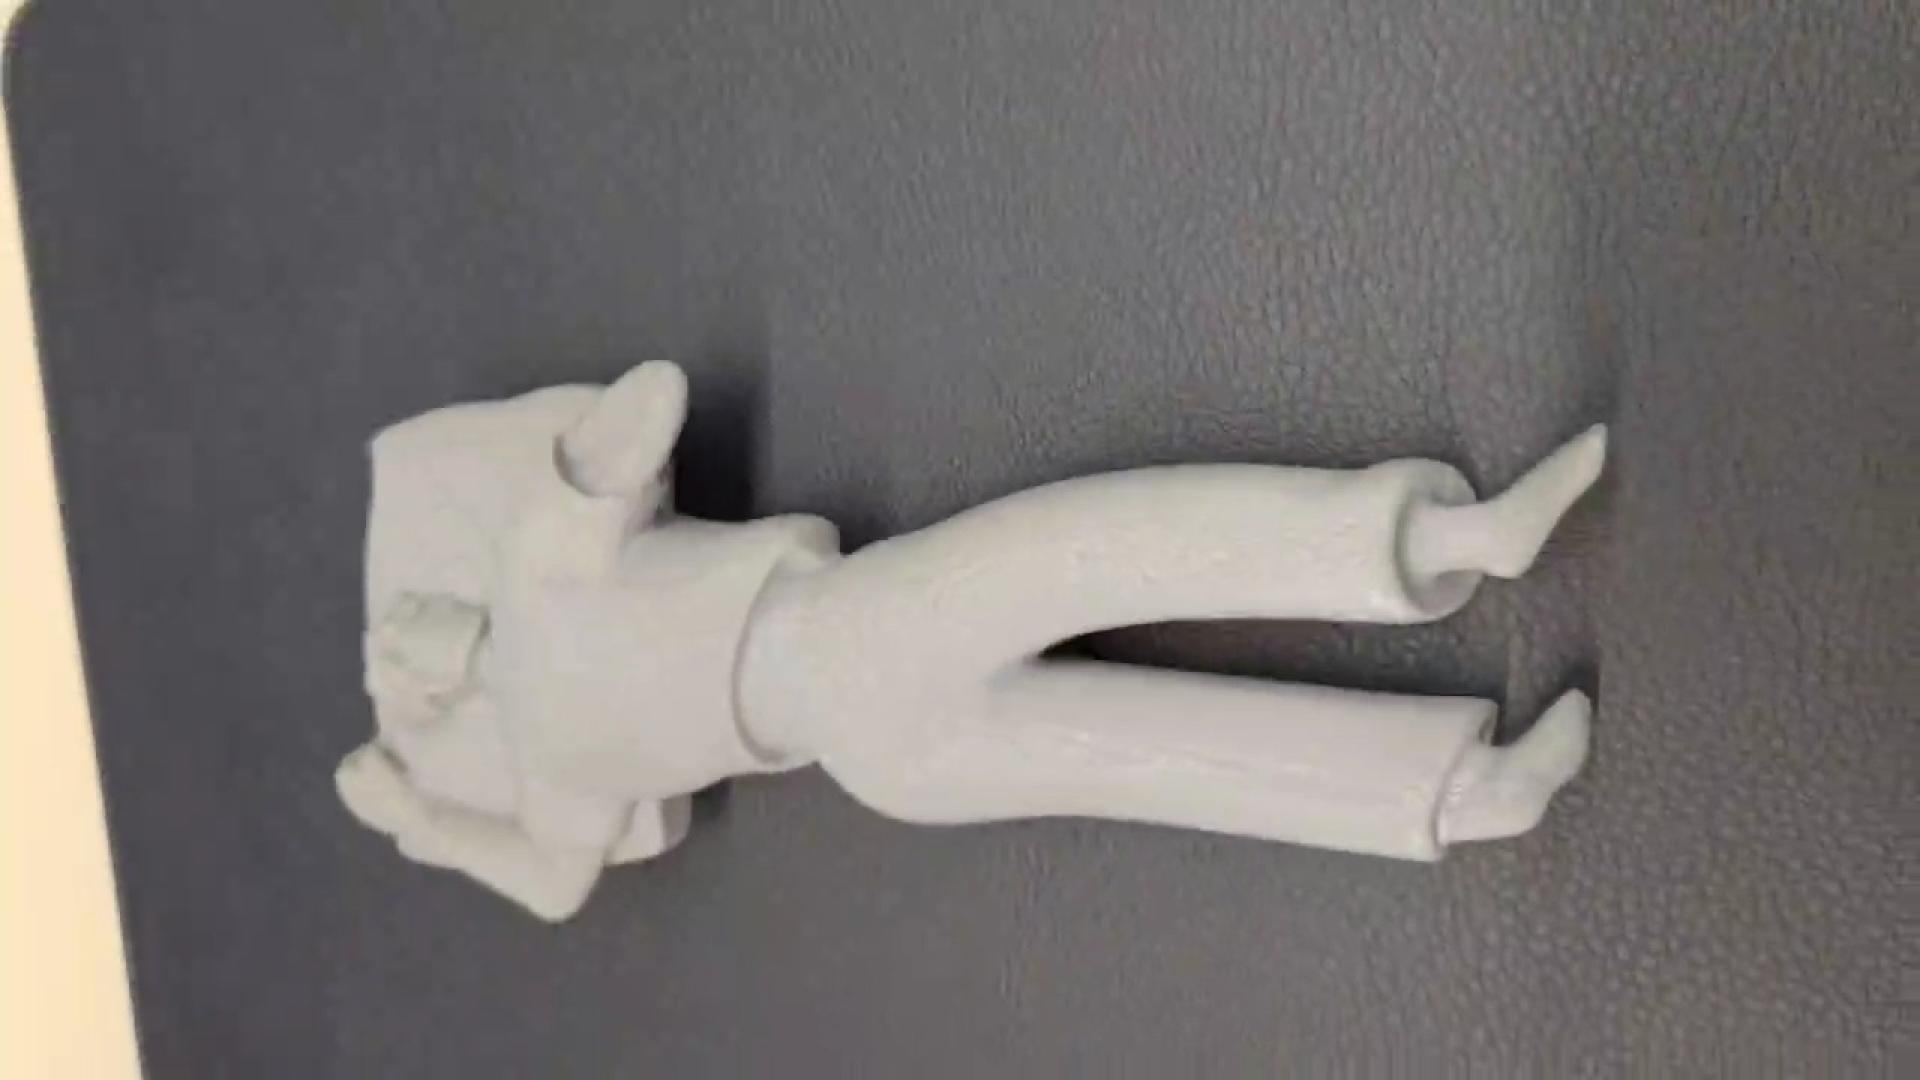Bad-style: (335, 352, 1630, 939)
